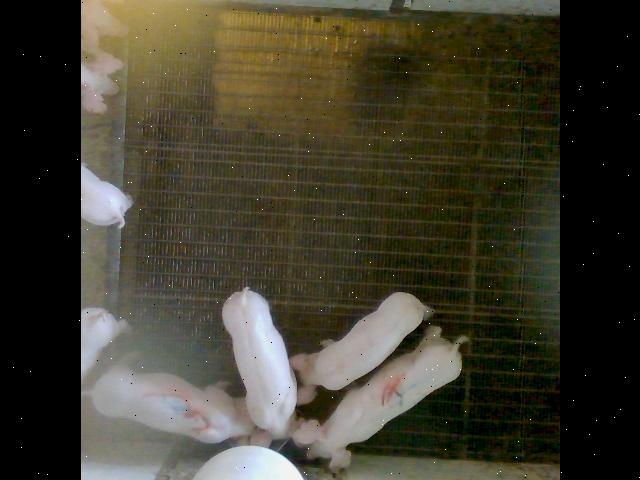pig-3: (82, 365, 254, 442)
pig-4: (291, 326, 464, 468)
